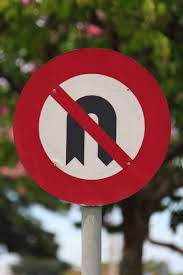No_u_turn: (12, 48, 171, 206)
